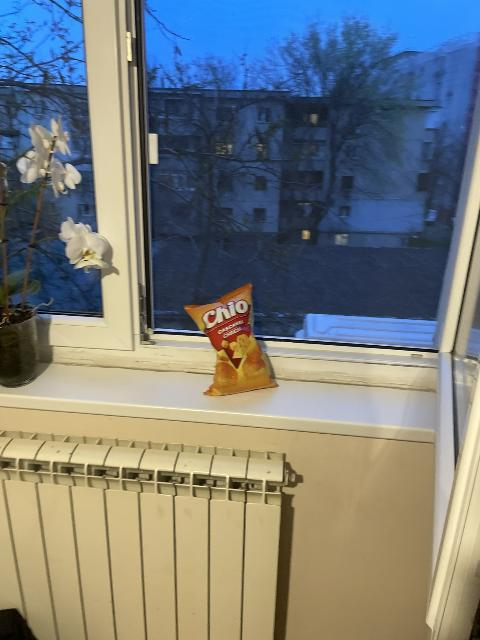Chio Cascaval 125g: (184, 282, 280, 393)
